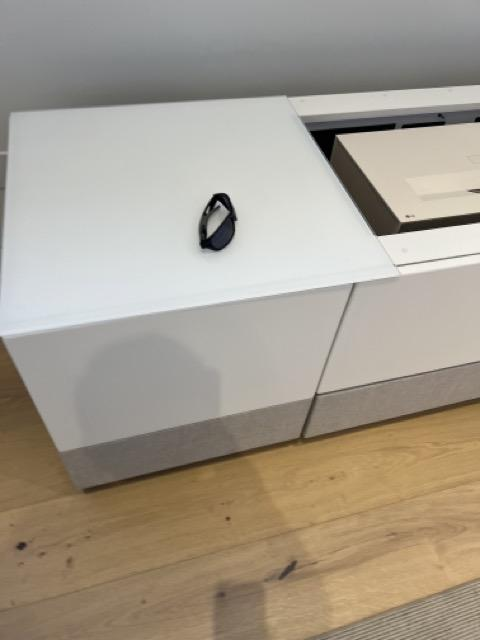Sunglasses: (198, 191, 238, 252)
